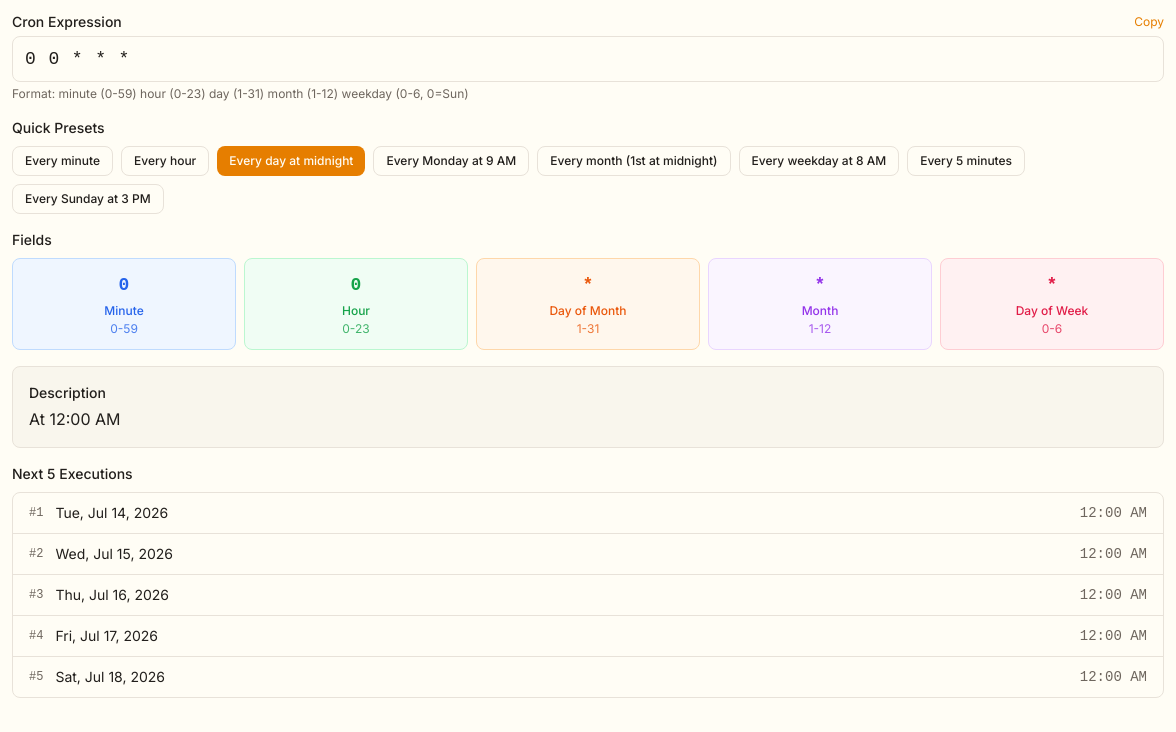
Scenario: CronParser › shows error for invalid expression
Replace the text in the field named "Cron expression input" with "* * *". click: (588, 59)
box: [12,36,1164,82]
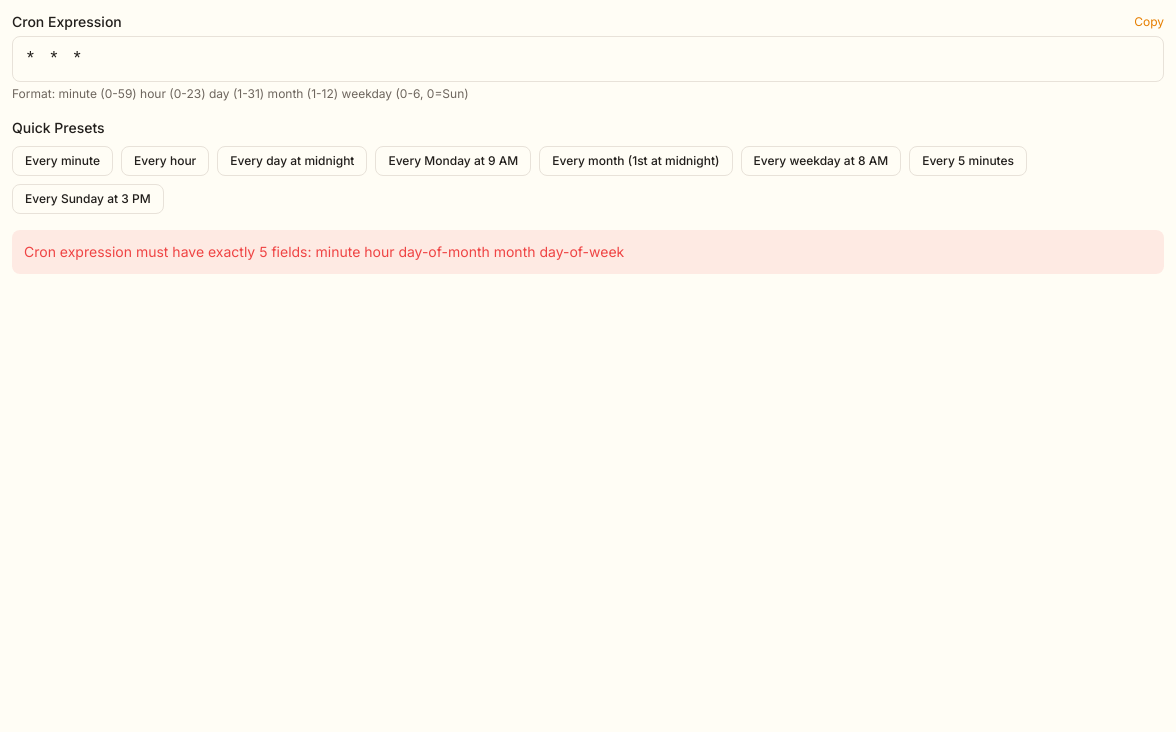
Now the text "must have exactly 5 fields" is shown, box [24,243,624,260]
